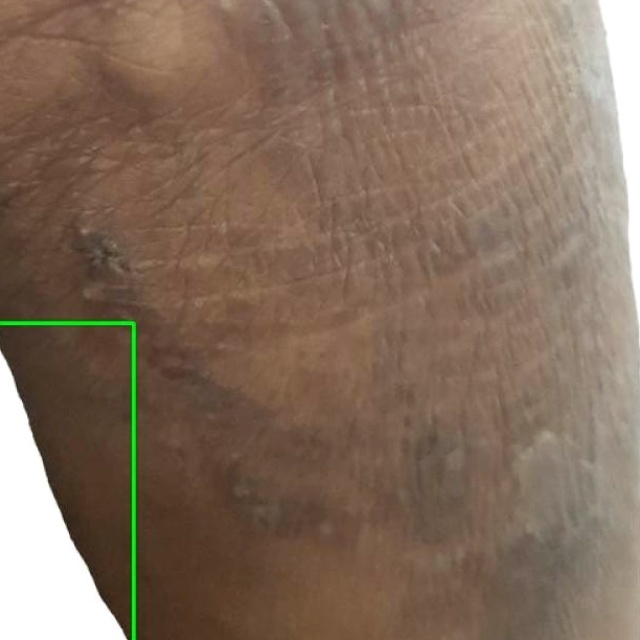Contact Dermatitis: (0, 323, 133, 639)
